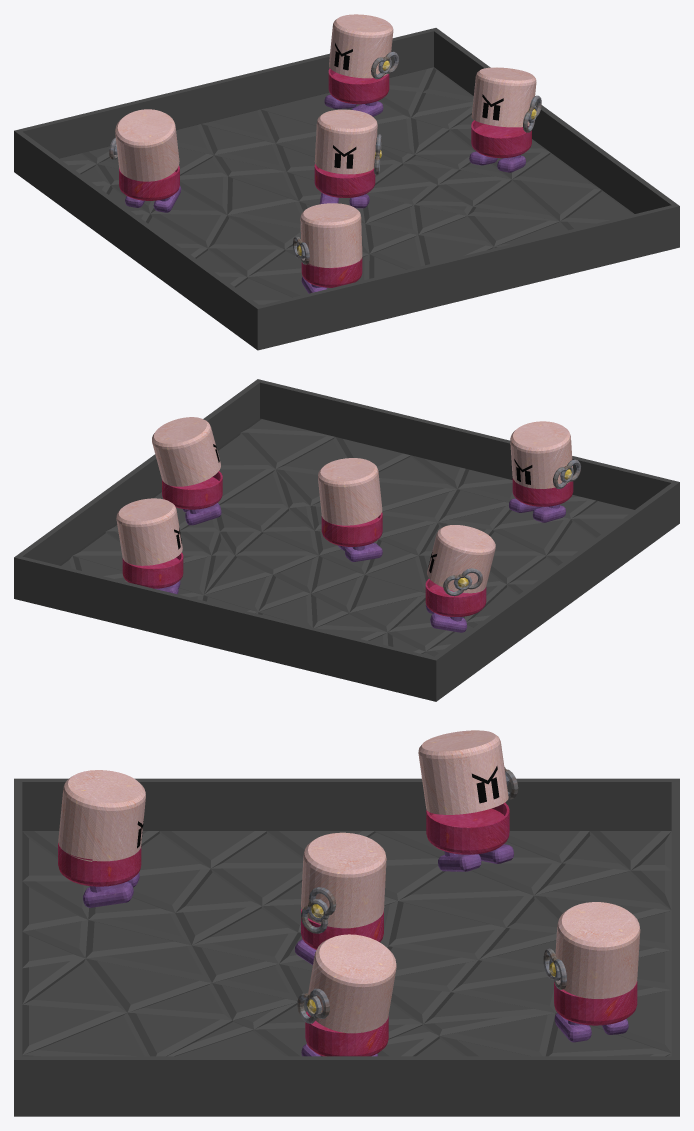
Rendered from Toasters004.obj.
3 views of the same model, one above another, from view 1: azimuth 30°, elevation 25°; view 2: azimuth 150°, elevation 25°; view 3: azimuth 270°, elevation 25° (orthographic). The views are drawn at different scales.
Parts seen in each view (by area): view 1: Box01, Head02, Head, Head04, Head03, Head01, Jaw01, Jaw03, Jaw, Jaw02, Jaw04; view 2: Box01, Head01, Head, Head03, Head04, Head02, Jaw02, Jaw01, Jaw03, Jaw, Jaw04, WindupKey02 (+4 smaller); view 3: Box01, Head03, Head04, Head01, Head, Head02, Jaw02, Jaw03, Jaw01, Jaw04, Jaw, WindupKey (+5 smaller).
Part boxes in pixels (x1=…): Box01: x1=14, y1=28, x2=679, y2=350; Head02: x1=115, y1=109, x2=179, y2=181; Head: x1=314, y1=109, x2=377, y2=174; Head04: x1=300, y1=203, x2=362, y2=267; Head03: x1=329, y1=14, x2=393, y2=78; Head01: x1=471, y1=67, x2=536, y2=127; Jaw01: x1=471, y1=120, x2=531, y2=158; Jaw03: x1=328, y1=68, x2=389, y2=104; Jaw: x1=314, y1=164, x2=375, y2=197; Jaw02: x1=119, y1=166, x2=179, y2=200; Jaw04: x1=301, y1=257, x2=362, y2=287; Box01: x1=14, y1=379, x2=679, y2=701; Head01: x1=152, y1=417, x2=220, y2=486; Head: x1=318, y1=458, x2=382, y2=525; Head03: x1=116, y1=498, x2=182, y2=565; Head04: x1=510, y1=421, x2=572, y2=488; Head02: x1=427, y1=525, x2=495, y2=593; Jaw02: x1=425, y1=578, x2=486, y2=616; Jaw01: x1=162, y1=471, x2=222, y2=509; Jaw03: x1=122, y1=552, x2=183, y2=588; Jaw: x1=321, y1=512, x2=382, y2=546; Jaw04: x1=512, y1=478, x2=573, y2=506; WindupKey02: x1=443, y1=568, x2=482, y2=596; Box01: x1=14, y1=778, x2=679, y2=1116; Head03: x1=555, y1=902, x2=640, y2=998; Head04: x1=58, y1=770, x2=145, y2=861; Head01: x1=308, y1=934, x2=396, y2=1033; Head: x1=301, y1=832, x2=386, y2=928; Head02: x1=418, y1=730, x2=508, y2=814; Jaw02: x1=426, y1=802, x2=509, y2=854; Jaw03: x1=554, y1=981, x2=637, y2=1025; Jaw01: x1=305, y1=1011, x2=388, y2=1056; Jaw04: x1=58, y1=843, x2=141, y2=886; Jaw: x1=301, y1=909, x2=383, y2=949; WindupKey: x1=301, y1=887, x2=336, y2=933.
Size of the model in its own units: 800 by 180 by 800.
7 materials, 5 textured.
